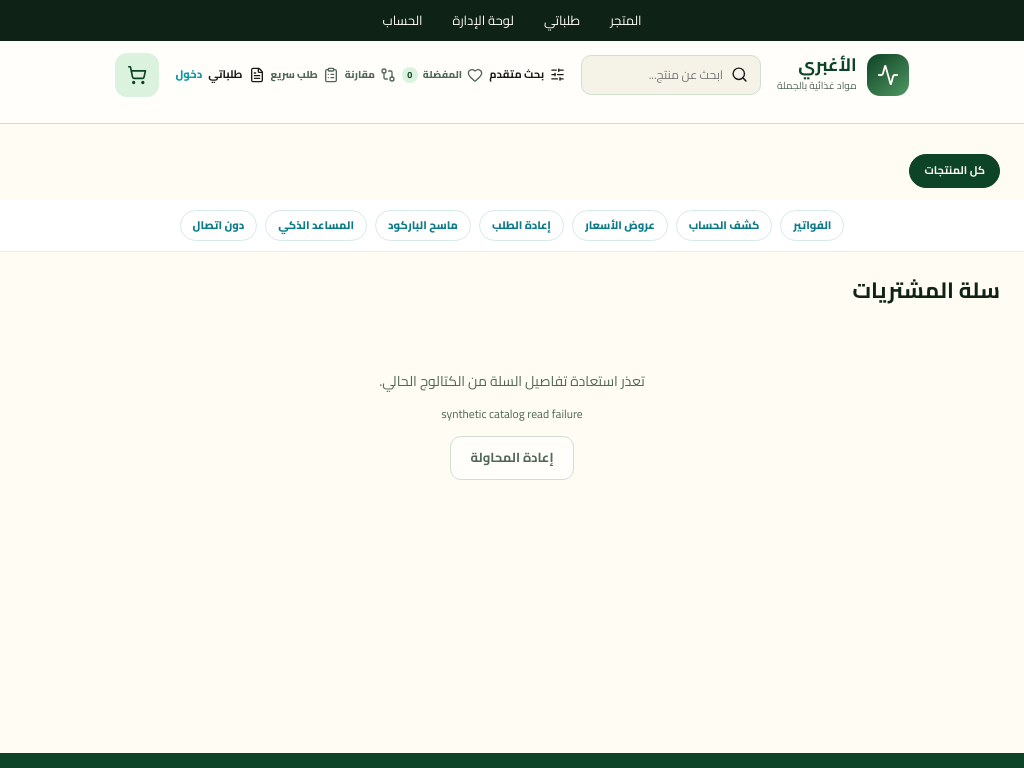
Scenario: customer cart and checkout real route acceptance › shows cart restoration failure and recovers only after the catalog retry succeeds
Expected: the message shows "تعذر استعادة تفاصيل السلة من الكتالوج الحالي.", [379,368,645,394]
Click the button "إعادة المحاولة" at [512, 458], box [450,436,574,480]
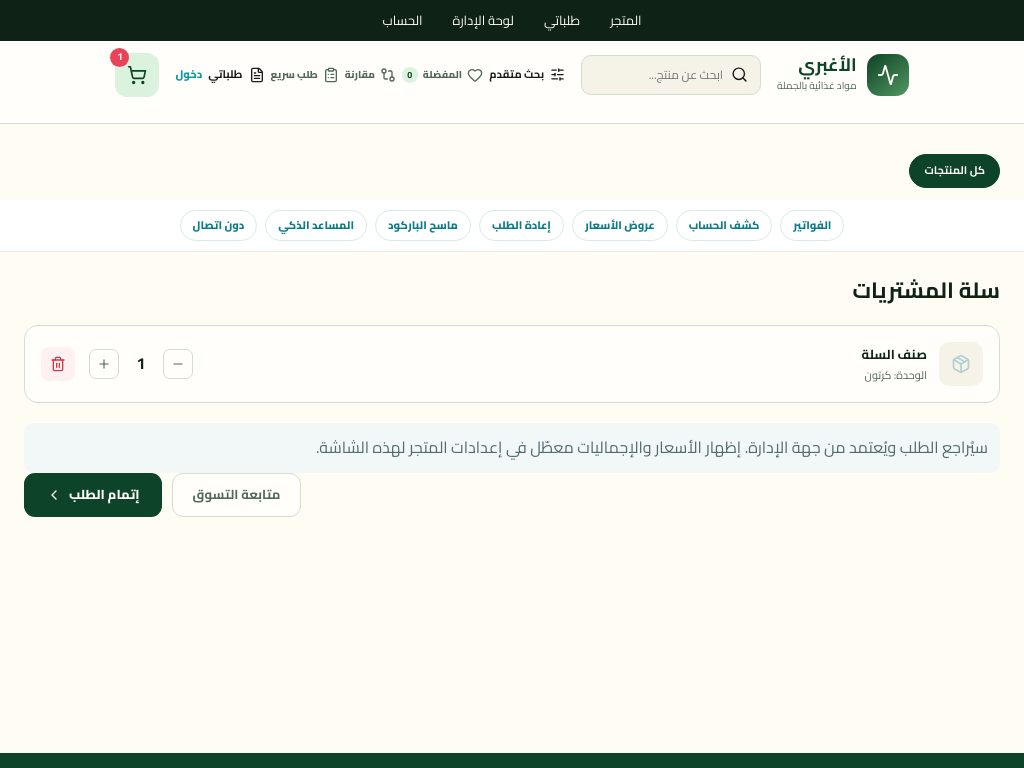
Expected: the message is gone
Expected: the text "صنف السلة" is shown, [862,344,927,365]
